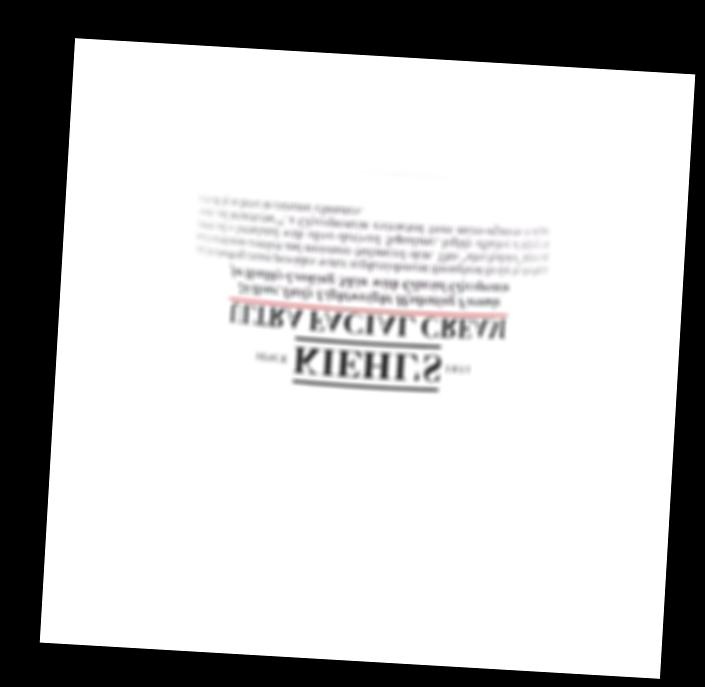cosmetic: (172, 159, 556, 484)
